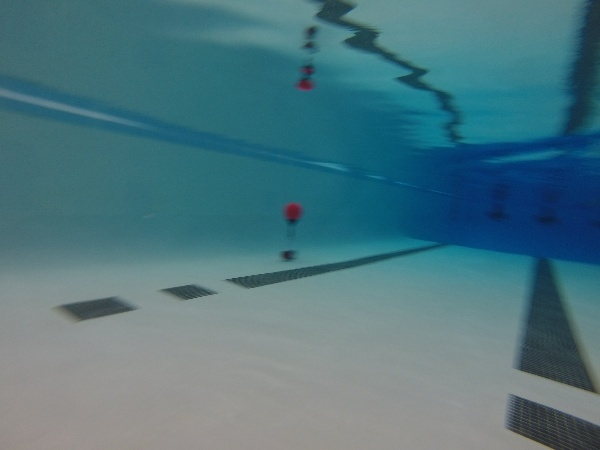buoy_red: (283, 200, 303, 227)
